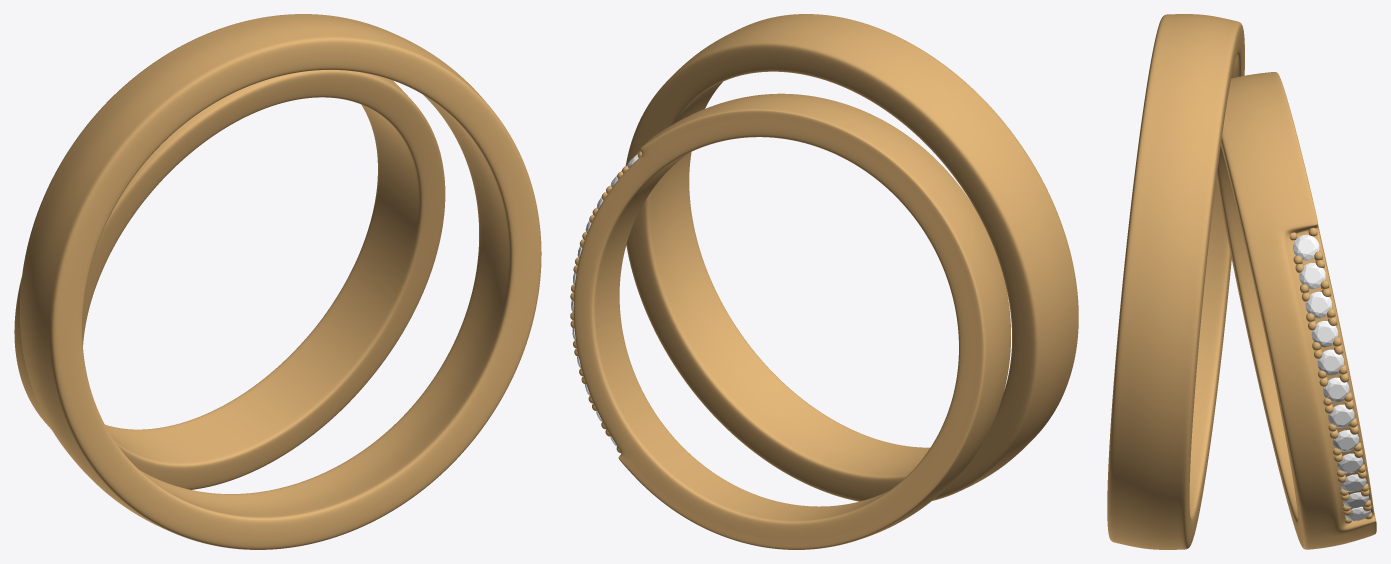
3 renders of one model, left to right at view 1: azimuth 30°, elevation 25°; view 2: azimuth 150°, elevation 25°; view 3: azimuth 270°, elevation 25°, orthographic. The views are drawn at different scales.
Parts seen in each view (by area): view 1: Torus009, Torus015; view 2: Torus009, Torus015; view 3: Torus009, Torus015, Brillant_1059, Brillant_1058, Brillant_1057, Brillant_1056, Brillant_1055, Brillant_1054, Brillant_1048, Brillant_1049, Brillant_1050, Brillant_1051.
Part boxes in pixels (left/top/right/bottom): Torus009: left=20, top=14, right=541, bottom=549; Torus015: left=14, top=70, right=445, bottom=489; Torus009: left=625, top=14, right=1078, bottom=501; Torus015: left=573, top=93, right=1010, bottom=549; Torus009: left=1107, top=14, right=1244, bottom=549; Torus015: left=1216, top=72, right=1376, bottom=549; Brillant_1059: left=1293, top=234, right=1319, bottom=260; Brillant_1058: left=1299, top=263, right=1325, bottom=289; Brillant_1057: left=1305, top=291, right=1331, bottom=318; Brillant_1056: left=1311, top=321, right=1338, bottom=347; Brillant_1055: left=1317, top=349, right=1343, bottom=375; Brillant_1054: left=1323, top=377, right=1349, bottom=402; Brillant_1048: left=1328, top=404, right=1354, bottom=427; Brillant_1049: left=1333, top=430, right=1359, bottom=451; Brillant_1050: left=1337, top=453, right=1363, bottom=473; Brillant_1051: left=1340, top=474, right=1366, bottom=492.
Size of what is drawn, in the model's own units: 2.66 by 2.67 by 1.34.
